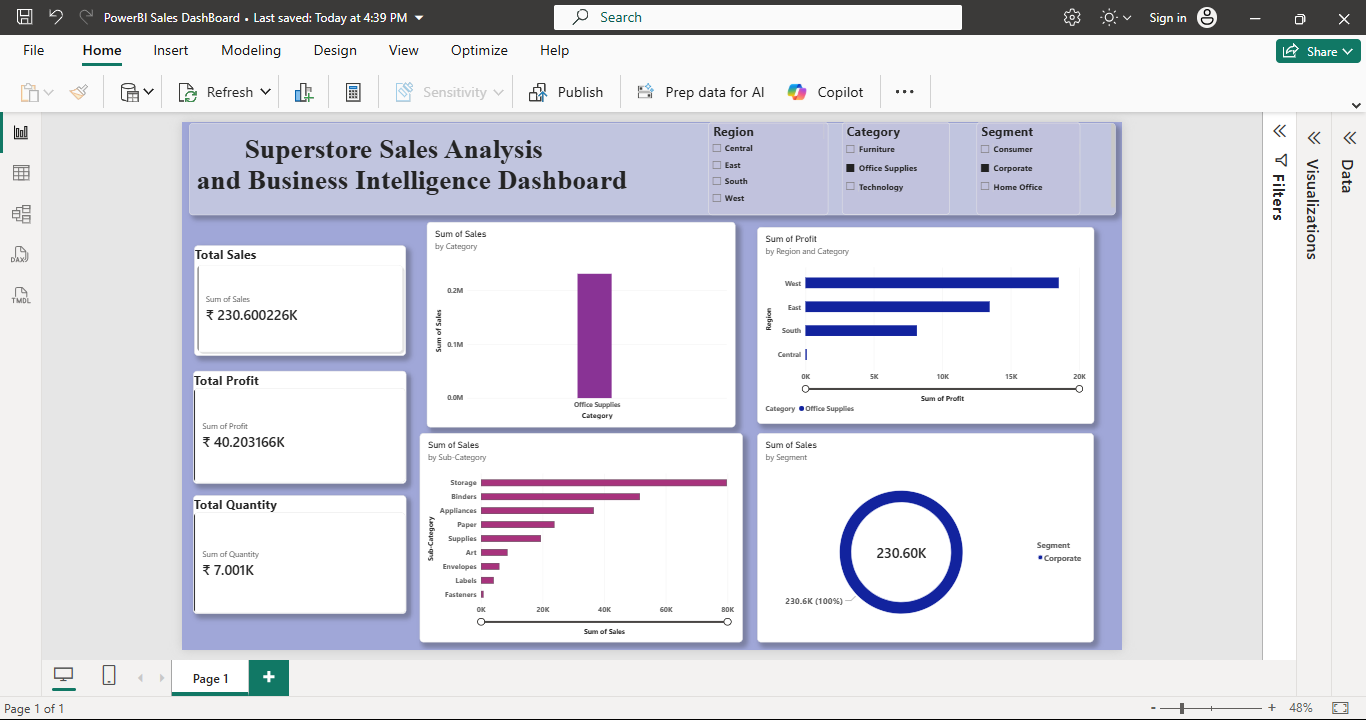

The page's visual inventory and layout, read from the dashboard file:
{"tool":"powerbi","page":{"name":"Page 1","canvas":[1920,1080],"ordinal":0},"visuals":[{"type":"textbox","box":[14,2,1892,188],"z":0},{"type":"slicer","fields":{"Values":["cleaned_superstore.Region"]},"box":[1075,0,245,190],"z":1},{"type":"slicer","fields":{"Values":["cleaned_superstore.Category"]},"box":[1348,0,221,189.4],"z":2},{"type":"slicer","fields":{"Values":["cleaned_superstore.Segment"]},"box":[1622,0,212,190],"z":3},{"type":"cardVisual","title":"Total Sales","fields":{"Data":["Sum(cleaned_superstore.Sales)"]},"box":[25,252.5,432.5,225],"z":4},{"type":"cardVisual","title":"Total Profit","fields":{"Data":["Sum(cleaned_superstore.Profit)"]},"box":[22.5,507.5,435,230],"z":5},{"type":"cardVisual","title":"Total Quantity","fields":{"Data":["Sum(cleaned_superstore.Quantity)"]},"box":[22.5,762.5,435,242.5],"z":6},{"type":"clusteredColumnChart","fields":{"Category":["cleaned_superstore.Category"],"Y":["Sum(cleaned_superstore.Sales)"]},"box":[500,205,630,420],"z":7},{"type":"clusteredBarChart","fields":{"Category":["cleaned_superstore.Region"],"Series":["cleaned_superstore.Category"],"Y":["Sum(cleaned_superstore.Profit)"]},"box":[1175,215,688,402],"z":8},{"type":"donutChart","fields":{"Category":["cleaned_superstore.Segment"],"Y":["Sum(cleaned_superstore.Sales)"]},"box":[1175,635,687.5,427.5],"z":9},{"type":"clusteredBarChart","fields":{"Category":["cleaned_superstore.Sub-Category"],"Y":["Sum(cleaned_superstore.Sales)"]},"box":[486,636,660,427.5],"z":10}]}

Visuals, with their boxes on the page's 1920x1080 design canvas (x1, y1, x2, y2). These are canvas units, not pixel positions in the 1366x720 screenshot, which may show the page scaled, cropped or inside an application window:
textbox: (14,2,1906,190)
slicer - cleaned_superstore.Region: (1075,0,1320,190)
slicer - cleaned_superstore.Category: (1348,0,1569,189)
slicer - cleaned_superstore.Segment: (1622,0,1834,190)
"Total Sales" cardVisual: (25,252,458,478)
"Total Profit" cardVisual: (22,508,458,738)
"Total Quantity" cardVisual: (22,762,458,1005)
clusteredColumnChart - cleaned_superstore.Category x Sum(cleaned_superstore.Sales): (500,205,1130,625)
clusteredBarChart - cleaned_superstore.Region x cleaned_superstore.Category: (1175,215,1863,617)
donutChart - cleaned_superstore.Segment x Sum(cleaned_superstore.Sales): (1175,635,1862,1062)
clusteredBarChart - cleaned_superstore.Sub-Category x Sum(cleaned_superstore.Sales): (486,636,1146,1064)
